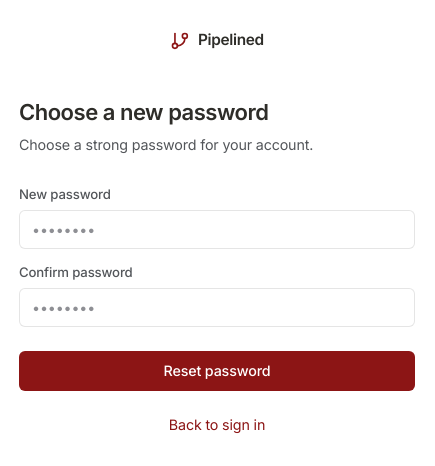
Test: ResetPassword › should show error when password is too short
Type "short" into the password field labelled "New password" at (217, 230), box [19,210,415,249]
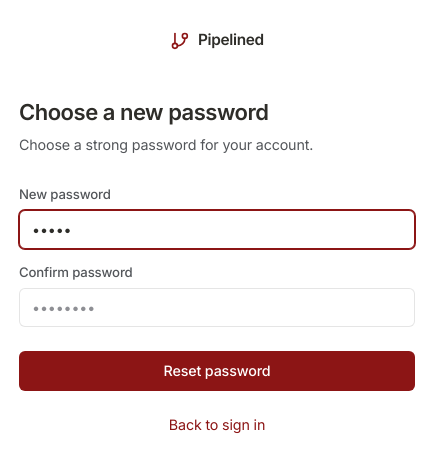
Type "short" into the password field labelled "Confirm password" at (217, 308), box [19,288,415,327]
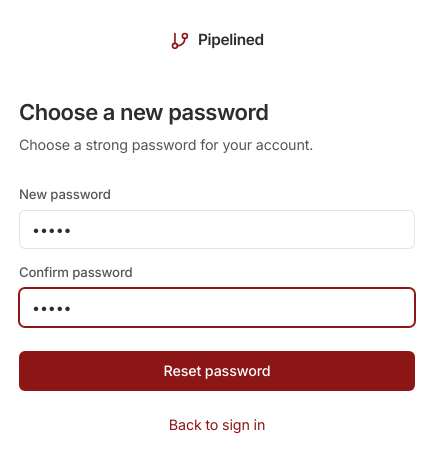
Click the button "Reset password" at (217, 371), box [19,351,415,391]
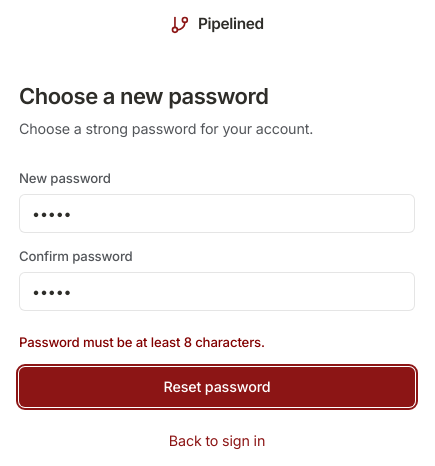
Check: the message shows "at least 8 characters", box [19,334,265,350]
